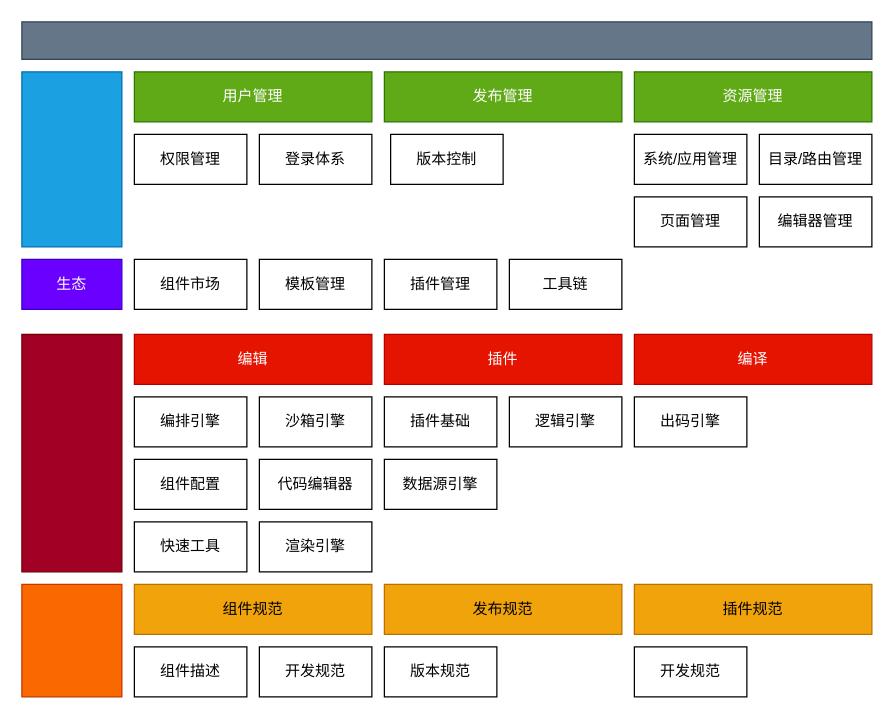
This 894x719 diagram has some shape labels left out. The shapes that lost their labels are listed below. From the top down, each one's centre as x and y in pixels, then its label:
point (446, 40): 低代码平台
point (71, 159): 功能模块
point (71, 452): 编辑器 引擎
point (71, 640): 规范标准
